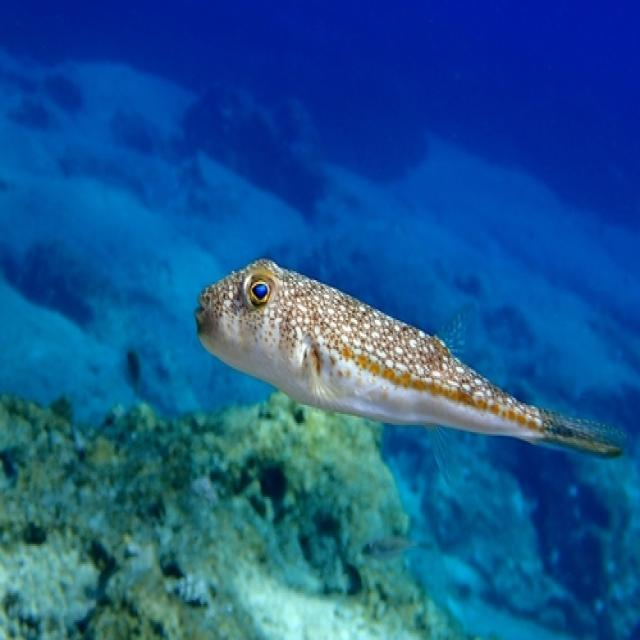Balik: (196, 259, 625, 457)
